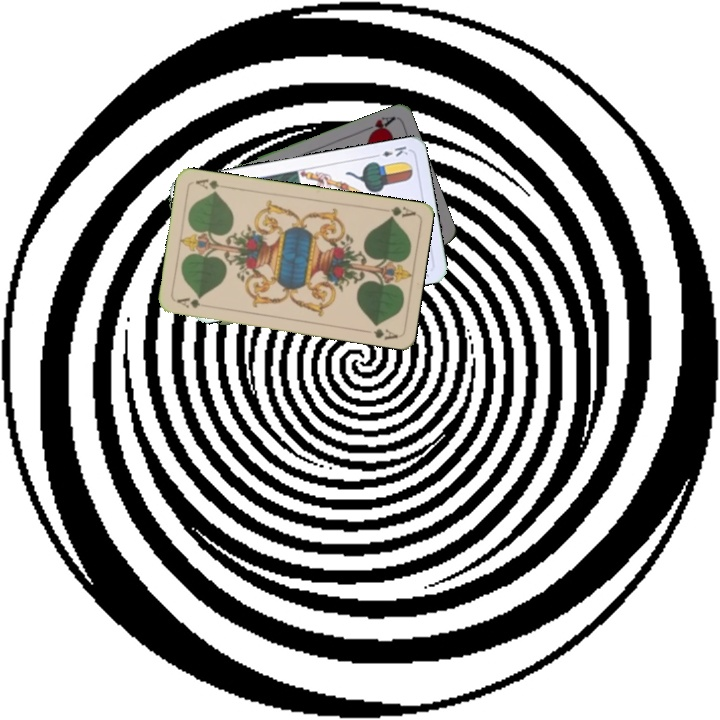EK: (370, 142, 411, 160)
GA: (385, 202, 417, 221), (173, 294, 203, 311)
HA: (358, 112, 397, 139)
